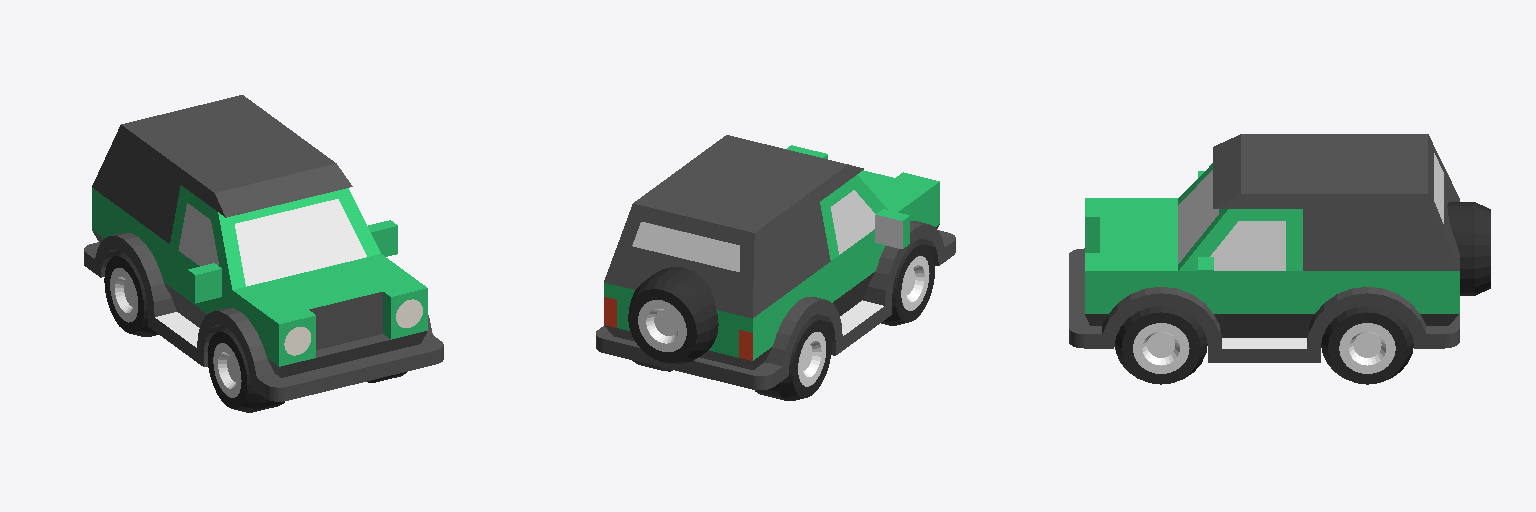
File: suv.obj
The picture shows the model from 3 angles: view 1: azimuth 30°, elevation 25°; view 2: azimuth 150°, elevation 25°; view 3: azimuth 270°, elevation 25°; orthographic projection.
Parts seen in each view (by area): view 1: body, wheel_frontRight, wheel_backRight; view 2: body, wheel_back, wheel_backRight, wheel_frontRight; view 3: body, wheel_backLeft, wheel_frontLeft, wheel_back.
Boxes of the visible parts, x1=… form: body: x1=84, y1=95, x2=443, y2=401; wheel_frontRight: x1=208, y1=326, x2=284, y2=412; wheel_backRight: x1=104, y1=251, x2=158, y2=336; body: x1=596, y1=135, x2=955, y2=389; wheel_back: x1=628, y1=267, x2=718, y2=363; wheel_backRight: x1=755, y1=315, x2=831, y2=400; wheel_frontRight: x1=881, y1=239, x2=934, y2=325; body: x1=1069, y1=134, x2=1459, y2=362; wheel_backLeft: x1=1321, y1=306, x2=1413, y2=384; wheel_frontLeft: x1=1115, y1=306, x2=1207, y2=384; wheel_back: x1=1447, y1=202, x2=1490, y2=295.
Size of the model in its own units: 59.06 by 51.18 by 106.